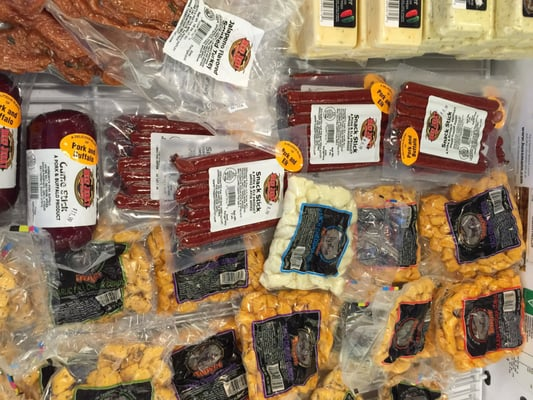burger: (25, 110, 100, 251), (0, 70, 22, 222)
